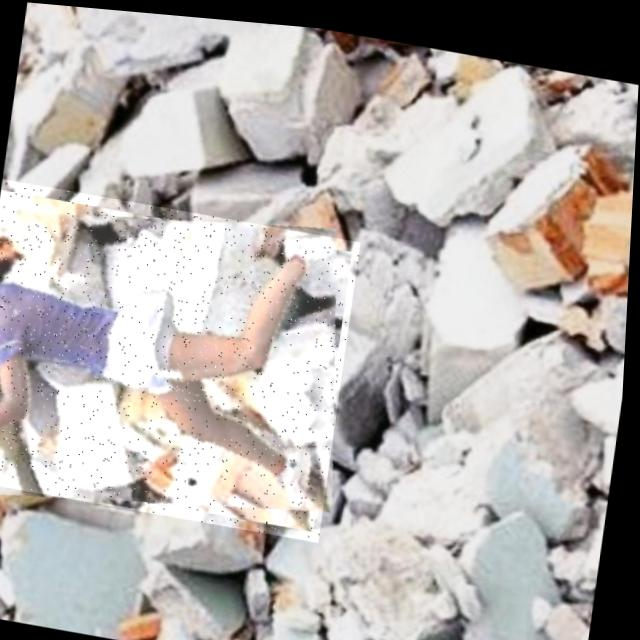Person in Rubble: (0, 176, 364, 536)
